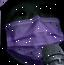with_mask: (1, 2, 64, 65)
